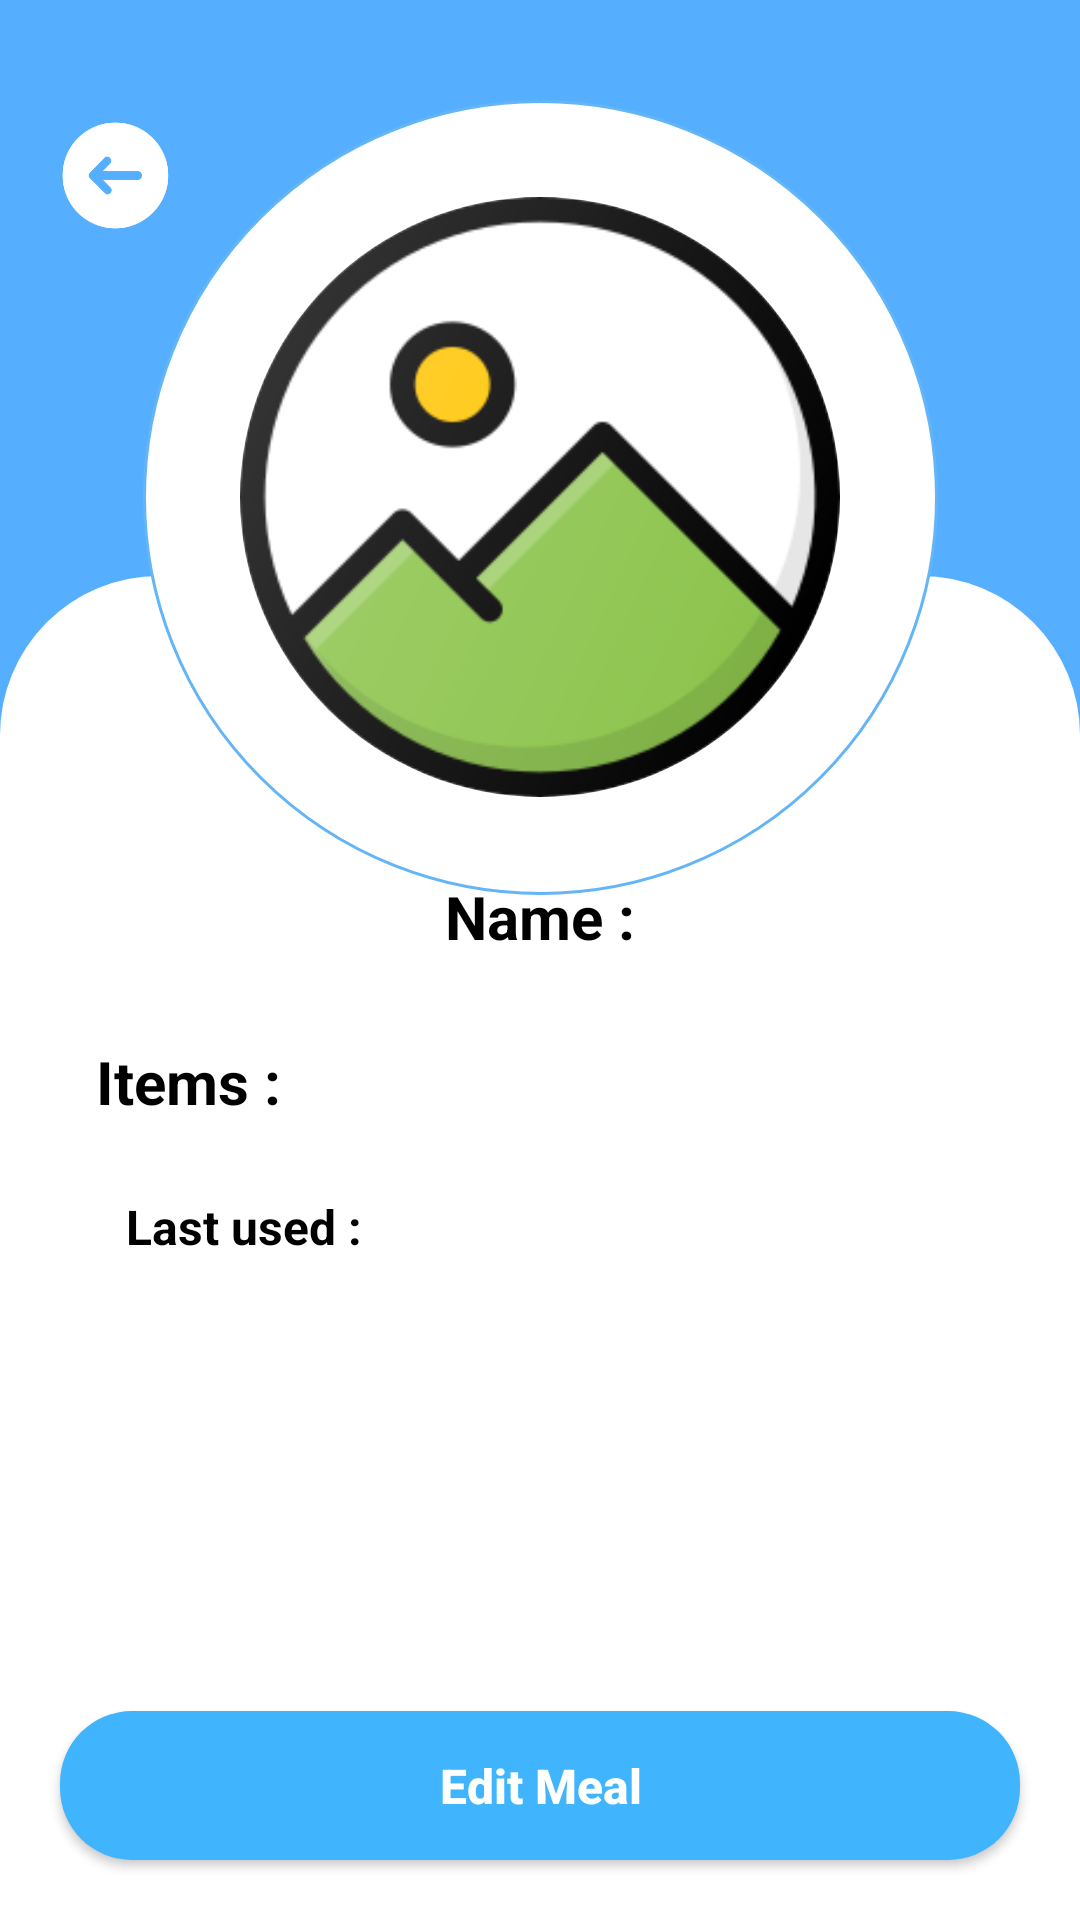

Where to tap for icons on this 1080px×1920px app screen, as point (x, y):
back arrow: point (115, 175)
